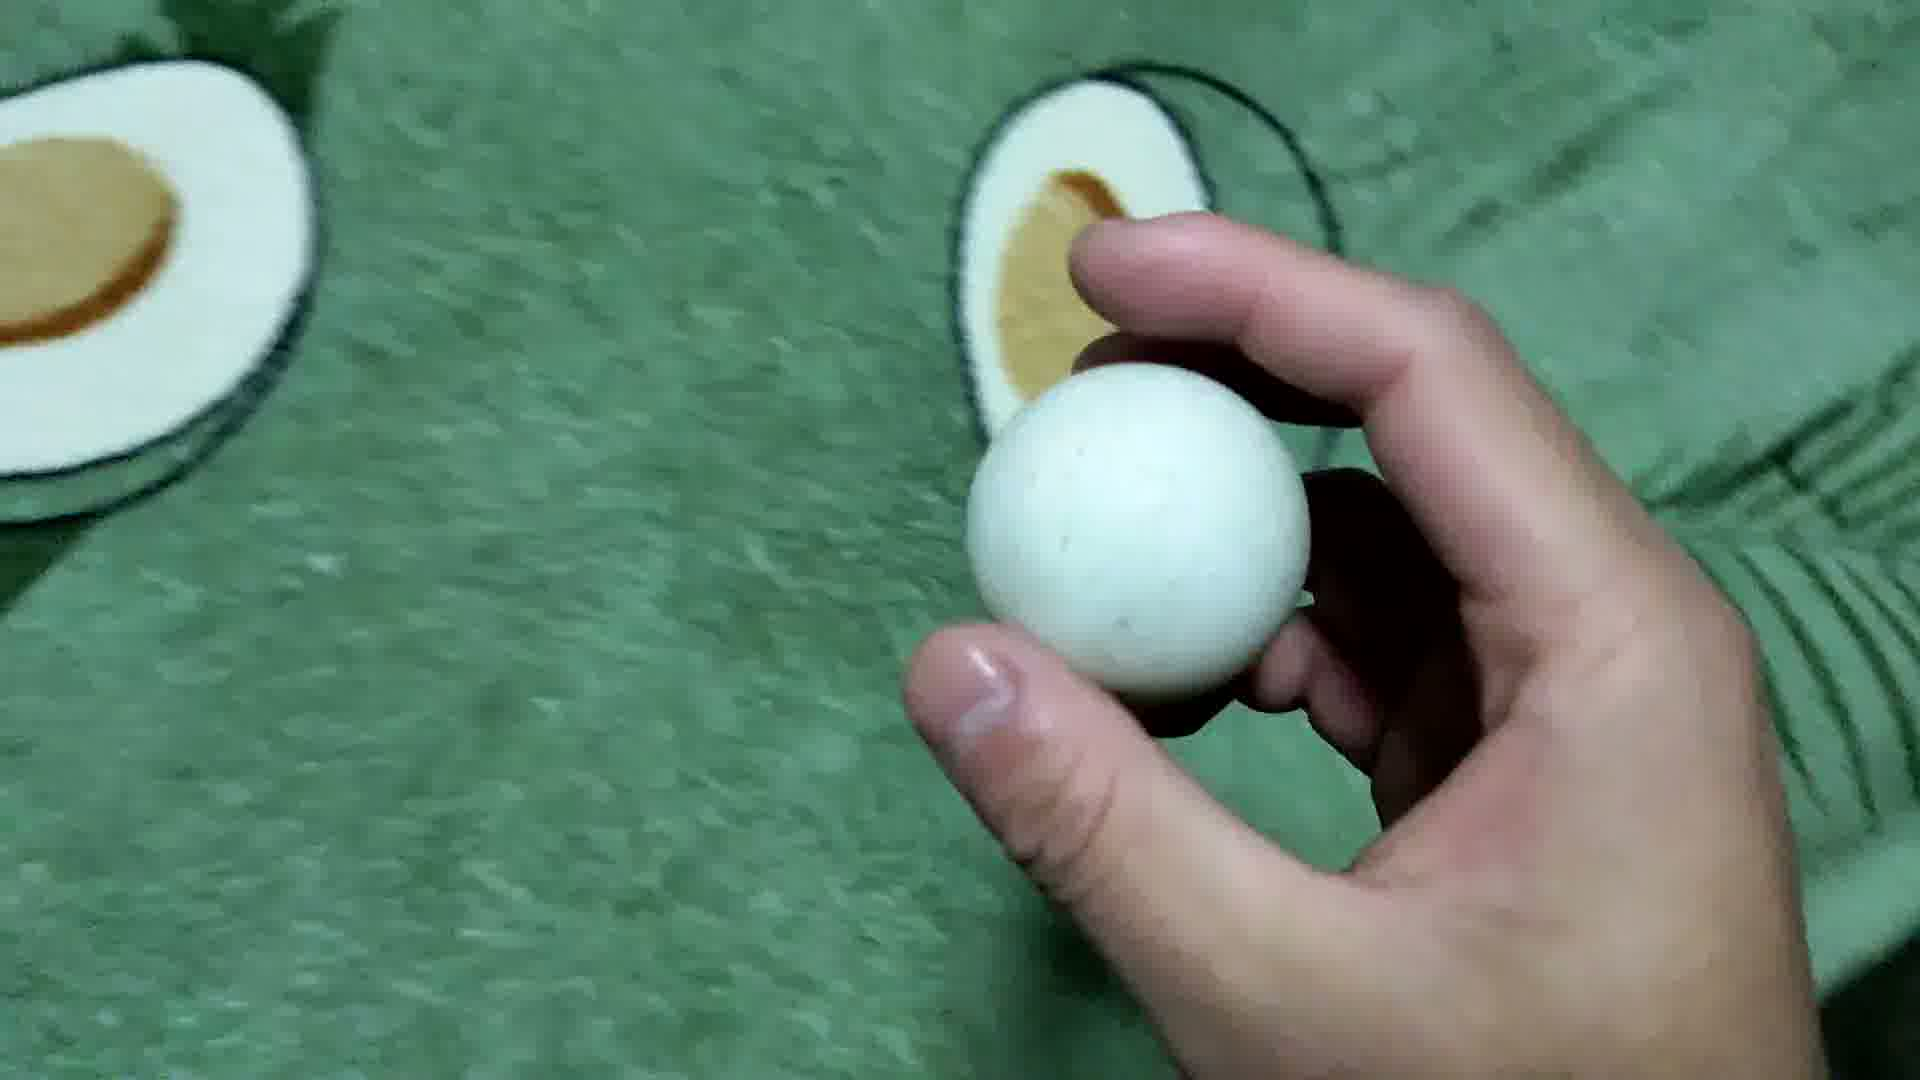Ball: (967, 363, 1312, 692)
